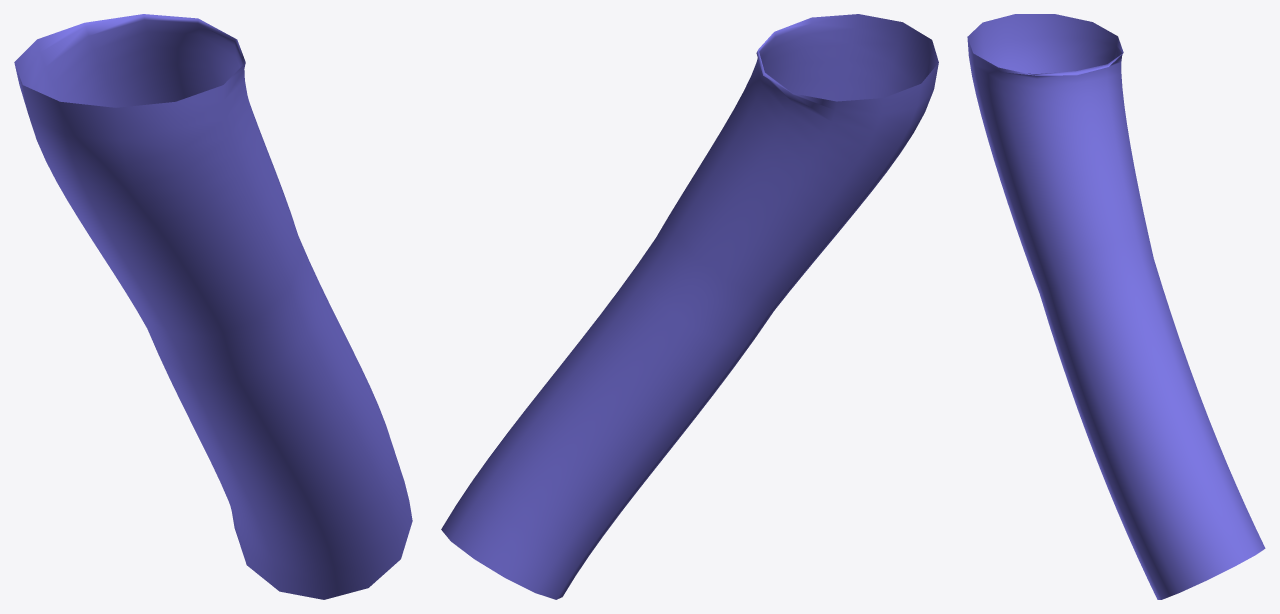
File: Common_iliac_vein.l_BezierCurve.052.glb
3 renders of one model, left to right at view 1: azimuth 30°, elevation 25°; view 2: azimuth 150°, elevation 25°; view 3: azimuth 270°, elevation 25°, orthographic. The views are drawn at different scales.
Parts seen in each view (by area): view 1: Common_iliac_vein.l_BezierCurve.052; view 2: Common_iliac_vein.l_BezierCurve.052; view 3: Common_iliac_vein.l_BezierCurve.052.
Part boxes in pixels (bbox=[...]): Common_iliac_vein.l_BezierCurve.052: bbox=[14, 14, 412, 599]; Common_iliac_vein.l_BezierCurve.052: bbox=[441, 14, 938, 599]; Common_iliac_vein.l_BezierCurve.052: bbox=[967, 14, 1265, 599].
Size of the model in its own units: 0.0412 by 0.0546 by 0.0321.
